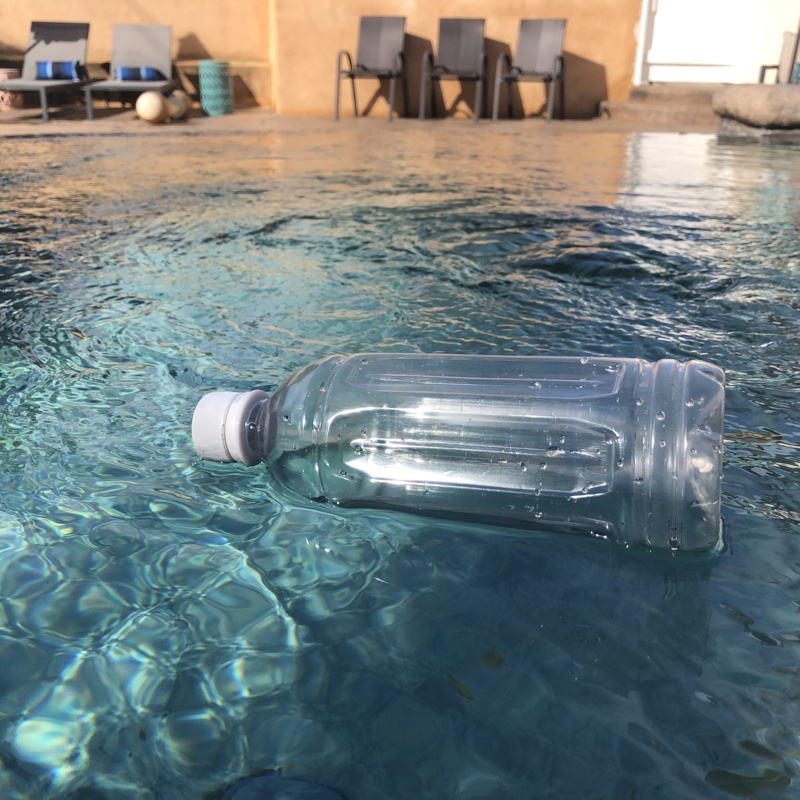Plastic Bottle: (187, 345, 730, 566)
